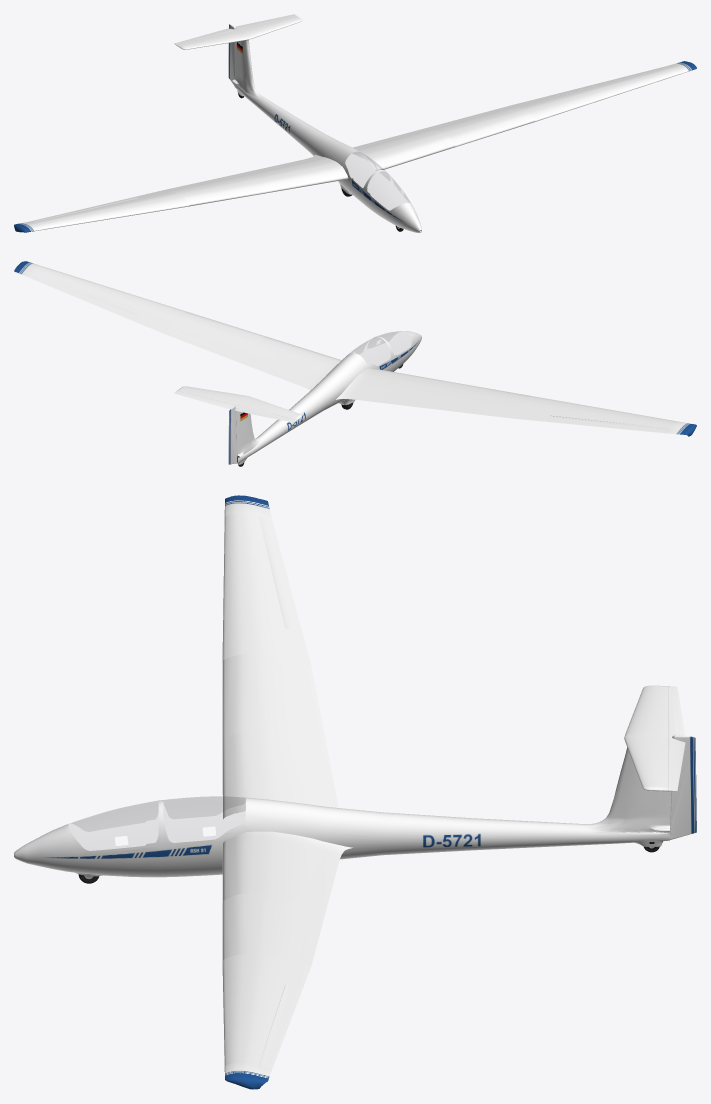
The picture shows the model from 3 angles, top to bottom: view 1: azimuth 30°, elevation 25°; view 2: azimuth 150°, elevation 25°; view 3: azimuth 270°, elevation 25°; orthographic projection. The views are drawn at different scales.
Visible parts, largest first — view 1: Exterior; view 2: Exterior; view 3: Exterior.
Part boxes in pixels (x1,y1,x2,y2): Exterior: [14, 14, 696, 232]; Exterior: [14, 261, 696, 466]; Exterior: [14, 495, 696, 1089].
Bounding box in the file's own units: 16.92 × 2.06 × 8.34.
4 materials, 3 textured.
